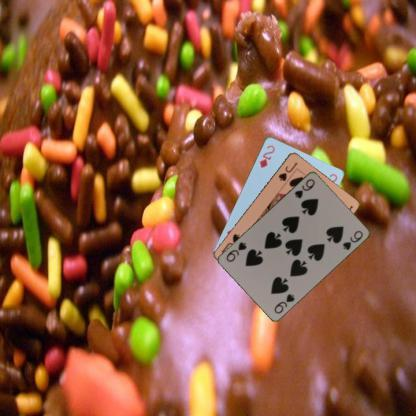2d: (257, 142, 276, 169)
9s: (271, 291, 296, 315), (292, 176, 316, 200)
Js: (276, 160, 298, 182)
